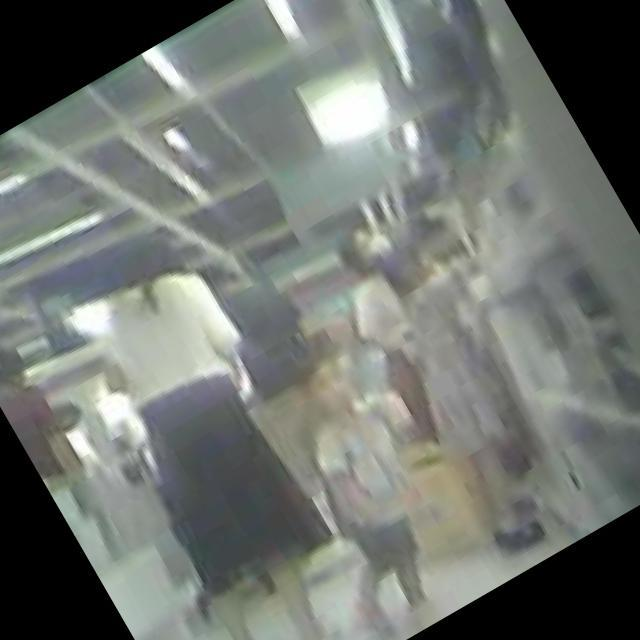person: (29, 228, 399, 640), (345, 228, 608, 560), (227, 347, 466, 632), (311, 221, 468, 426), (189, 225, 335, 394), (0, 335, 92, 493)
